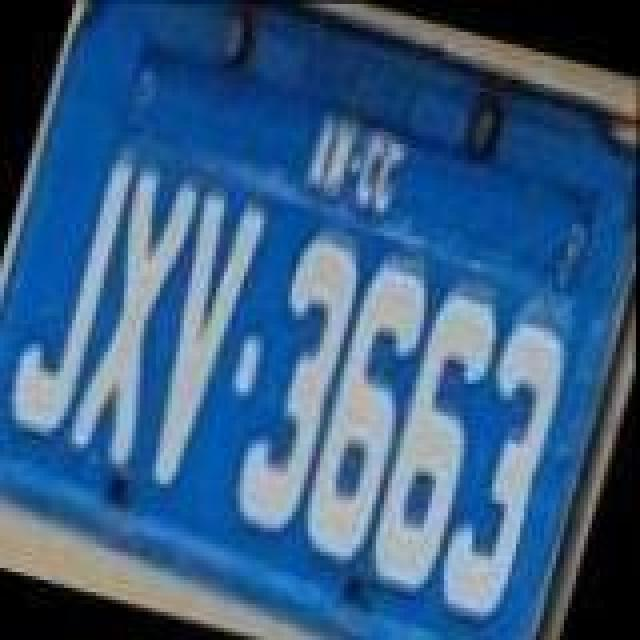3: (222, 228, 378, 544), (428, 308, 584, 624)
6: (290, 250, 446, 570), (356, 284, 512, 600)
J: (0, 144, 140, 448)
V: (122, 186, 270, 490)
X: (58, 164, 206, 476)
